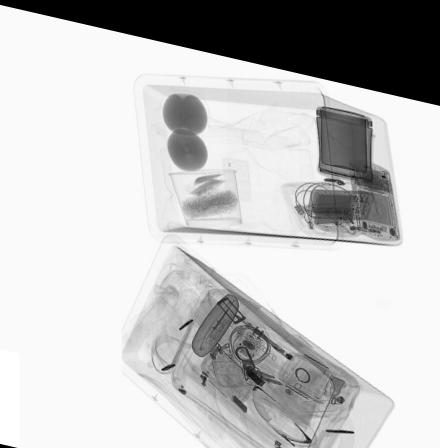Powerbank: (306, 172, 375, 206)
